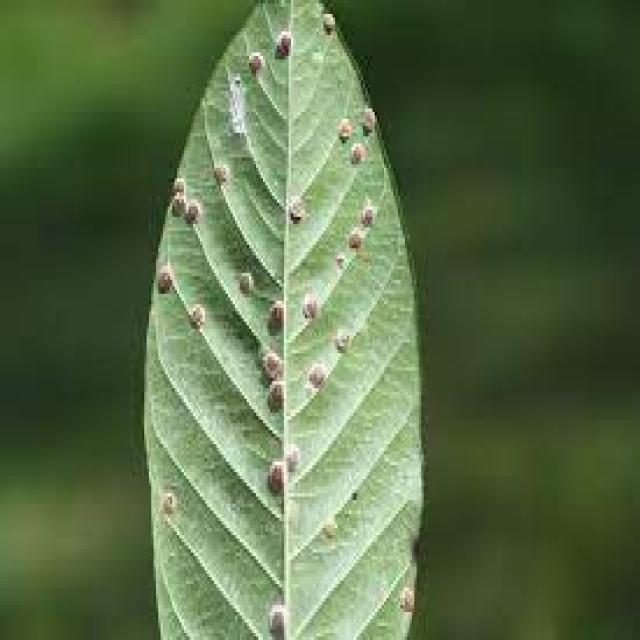scale_insect: (251, 339, 284, 378), (146, 252, 174, 297), (261, 448, 286, 497), (258, 370, 286, 412), (296, 283, 324, 322), (279, 434, 303, 479), (303, 349, 328, 392), (263, 591, 286, 637), (282, 182, 307, 224), (354, 95, 379, 136), (184, 290, 207, 332), (270, 18, 293, 60), (317, 504, 342, 542), (328, 315, 352, 353), (179, 189, 203, 227), (263, 290, 286, 329), (330, 108, 354, 144), (344, 129, 366, 168), (354, 192, 377, 228), (242, 42, 265, 77), (314, 4, 342, 32), (163, 186, 186, 220), (394, 577, 414, 616), (232, 259, 254, 294), (207, 150, 228, 186), (342, 220, 365, 252), (165, 161, 186, 196), (156, 479, 174, 514), (328, 242, 347, 270)
